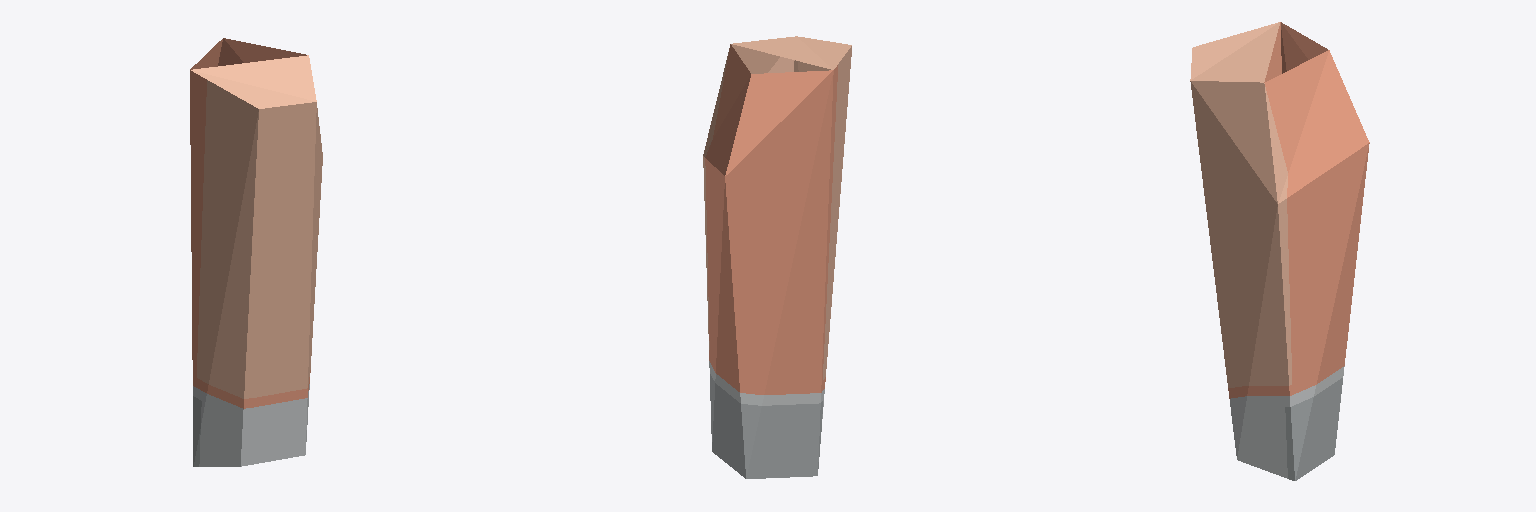
The picture shows the model from 3 angles: view 1: azimuth 30°, elevation 25°; view 2: azimuth 150°, elevation 25°; view 3: azimuth 270°, elevation 25°; orthographic projection.
Parts seen in each view (by area): view 1: 14_LEG_LEFT_BOTTOM; view 2: 14_LEG_LEFT_BOTTOM; view 3: 14_LEG_LEFT_BOTTOM.
Boxes of the visible parts, <box> form: 14_LEG_LEFT_BOTTOM: <box>190,38,322,466</box>; 14_LEG_LEFT_BOTTOM: <box>703,36,851,478</box>; 14_LEG_LEFT_BOTTOM: <box>1190,22,1369,480</box>.
Bounding box in the file's own units: 0.1257 × 0.368 × 0.1479.
Materials: 1 (1 with a texture image).